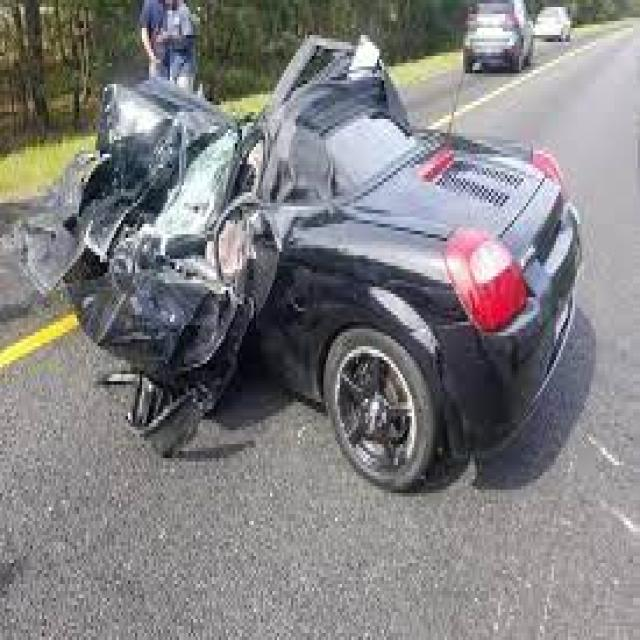Severe Damage: (34, 34, 385, 451)
